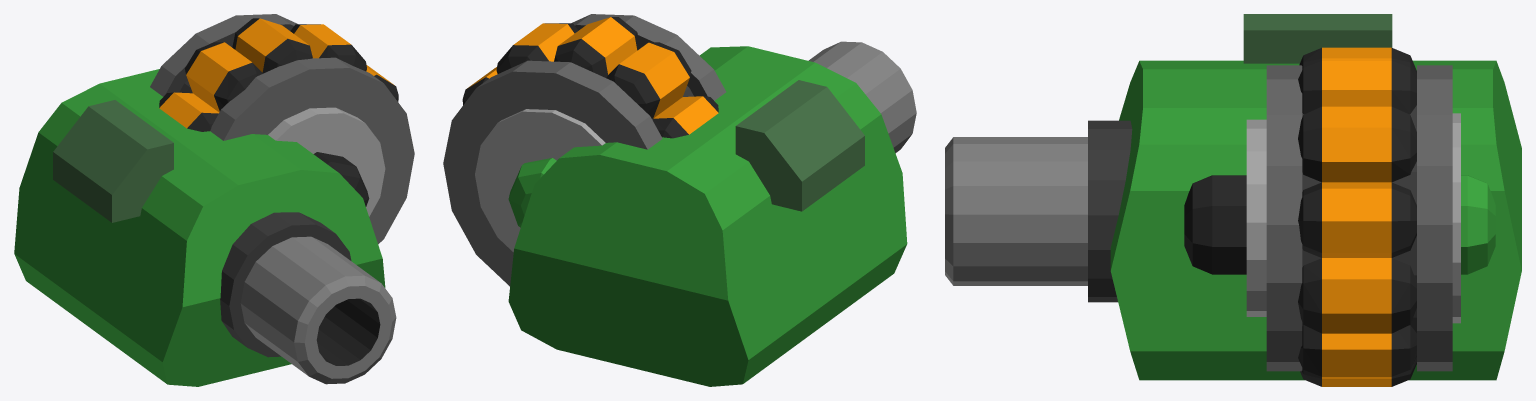
Rendered from mortar_cannon.fbx.
The picture shows the model from 3 angles, left to right: view 1: azimuth 30°, elevation 25°; view 2: azimuth 150°, elevation 25°; view 3: azimuth 270°, elevation 25°; orthographic projection. The views are drawn at different scales.
Visible parts, largest first — view 1: Cube.037, Cylinder.026, Cylinder.019, Cube.046, Cylinder.078, Cylinder.023; view 2: Cube.037, Cylinder.019, Cube.046, Cylinder.078, Cylinder.026, Cylinder.024; view 3: Cube.037, Cylinder.078, Cylinder.019, Cylinder.026, Cube.046, Cylinder.023, Cylinder.024.
Part boxes in pixels (<box>): Cube.037: <box>14,69,385,386</box>; Cylinder.026: <box>220,212,396,384</box>; Cylinder.019: <box>150,14,414,244</box>; Cube.046: <box>53,100,173,222</box>; Cylinder.078: <box>159,18,398,131</box>; Cylinder.023: <box>313,152,369,206</box>; Cube.037: <box>508,46,907,386</box>; Cylinder.019: <box>443,14,726,286</box>; Cube.046: <box>735,80,864,211</box>; Cylinder.078: <box>462,17,718,138</box>; Cylinder.026: <box>808,41,916,153</box>; Cylinder.024: <box>508,158,556,227</box>; Cube.037: <box>1110,60,1521,380</box>; Cylinder.078: <box>1298,47,1416,386</box>; Cylinder.019: <box>1246,65,1460,371</box>; Cylinder.026: <box>945,120,1132,302</box>; Cube.046: <box>1243,14,1392,63</box>; Cylinder.023: <box>1184,175,1246,274</box>; Cylinder.024: <box>1461,175,1495,274</box>.
Size of the model in its own units: 109 by 82.97 by 134.
